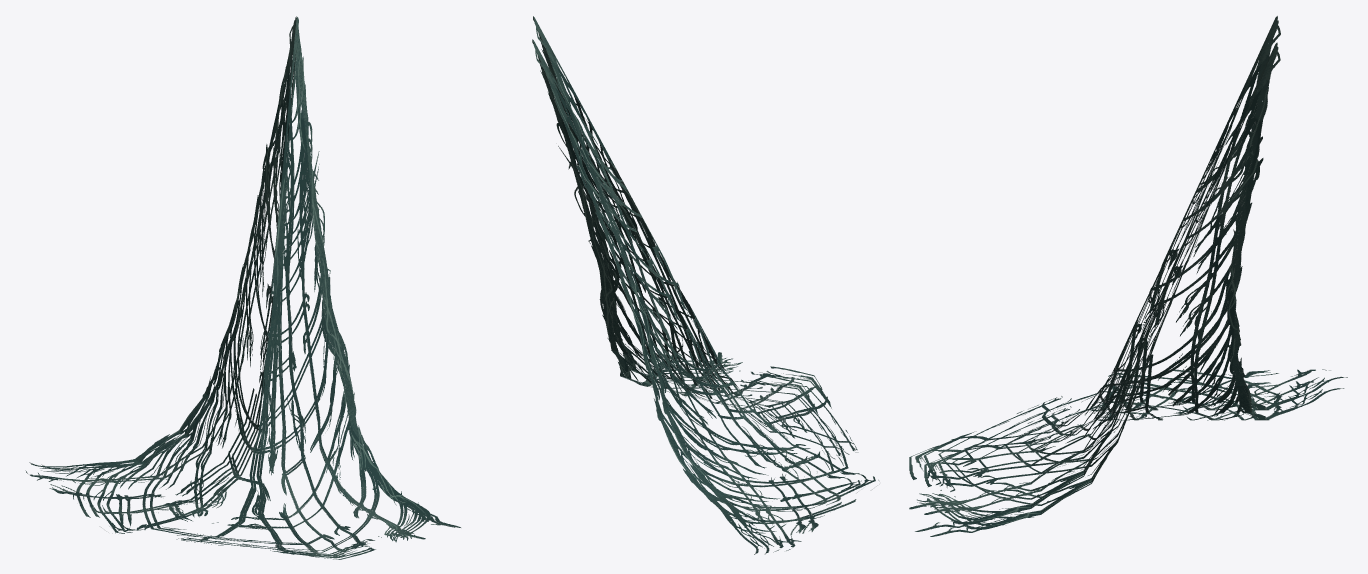
The model's file is Fish_net04.fbx.
3 views of the same model, side by side, from view 1: azimuth 30°, elevation 25°; view 2: azimuth 150°, elevation 25°; view 3: azimuth 270°, elevation 25° (orthographic). The views are drawn at different scales.
Visible parts, largest first — view 1: Fish_net04; view 2: Fish_net04; view 3: Fish_net04.
Part boxes in pixels (left/top/right/bottom): Fish_net04: left=25, top=16, right=460, bottom=559; Fish_net04: left=532, top=16, right=879, bottom=554; Fish_net04: left=909, top=16, right=1347, bottom=536.
Bounding box in the file's own units: 1.89 × 2.41 × 1.9.
Materials: 1 (1 with a texture image).
